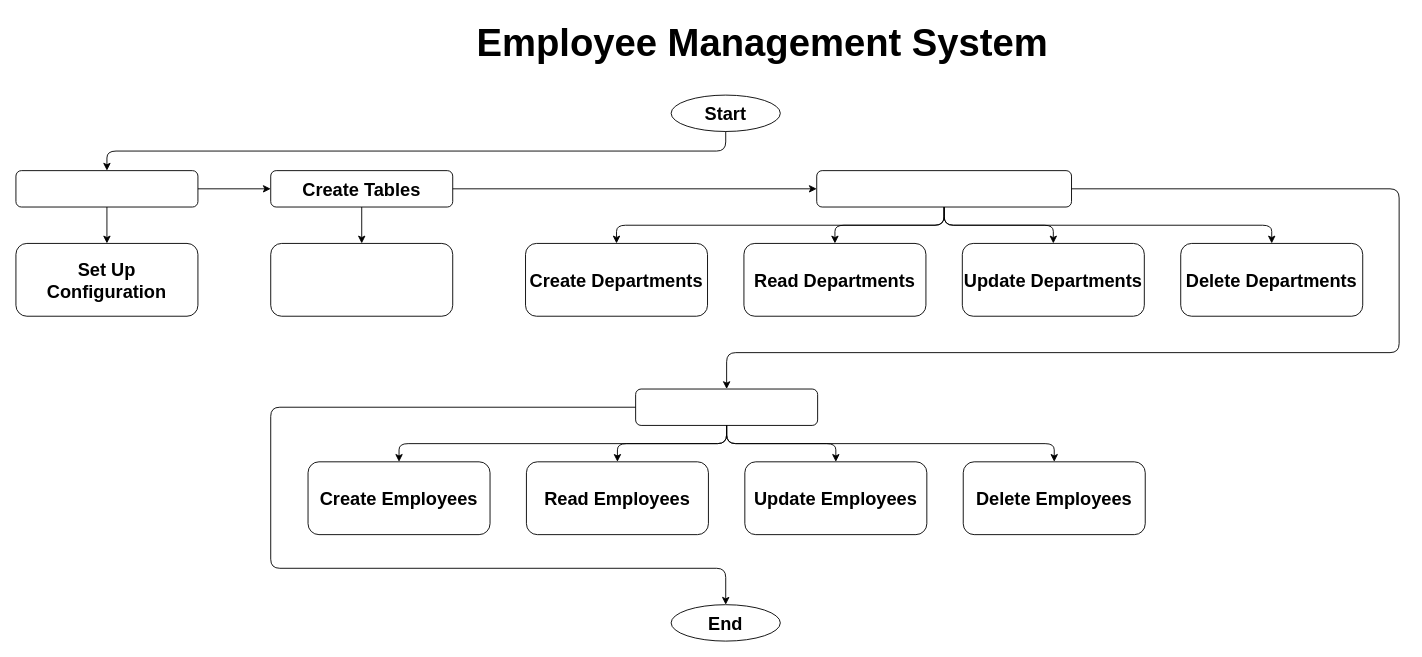
Image size: 1422x657. Some labels were removed from this diagram. The shapes that lost their labels are listed below. From the top down, each one's box as (x1, y1, x2, y2) in pixels, then its label:
(15, 170, 198, 207): Initialize Database
(816, 170, 1072, 207): Manage Departments
(270, 243, 453, 316): Define Individual Tables
(635, 388, 818, 425): Manage Employees
